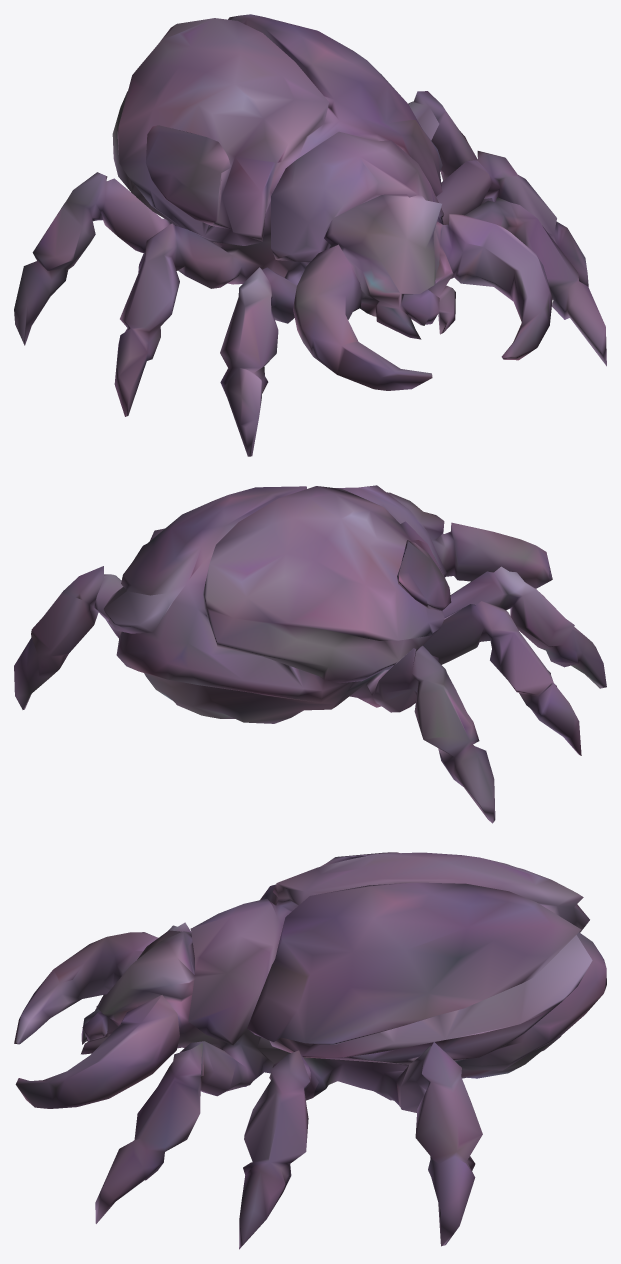
Rendered from HunterBeetle_game.glb.
3 views of the same model, one above another, from view 1: azimuth 30°, elevation 25°; view 2: azimuth 150°, elevation 25°; view 3: azimuth 270°, elevation 25° (orthographic). The views are drawn at different scales.
Visible parts, largest first — view 1: HunterBeetle; view 2: HunterBeetle; view 3: HunterBeetle.
Part boxes in pixels (<box>): HunterBeetle: <box>14,14,606,456</box>; HunterBeetle: <box>14,485,606,823</box>; HunterBeetle: <box>14,852,606,1249</box>.
Bounding box in the file's own units: 1.01 × 0.5087 × 1.04.
